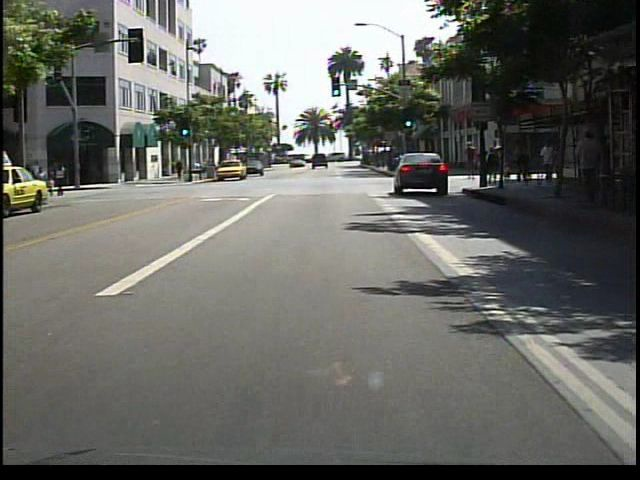person: (53, 160, 75, 201), (462, 139, 479, 184)
